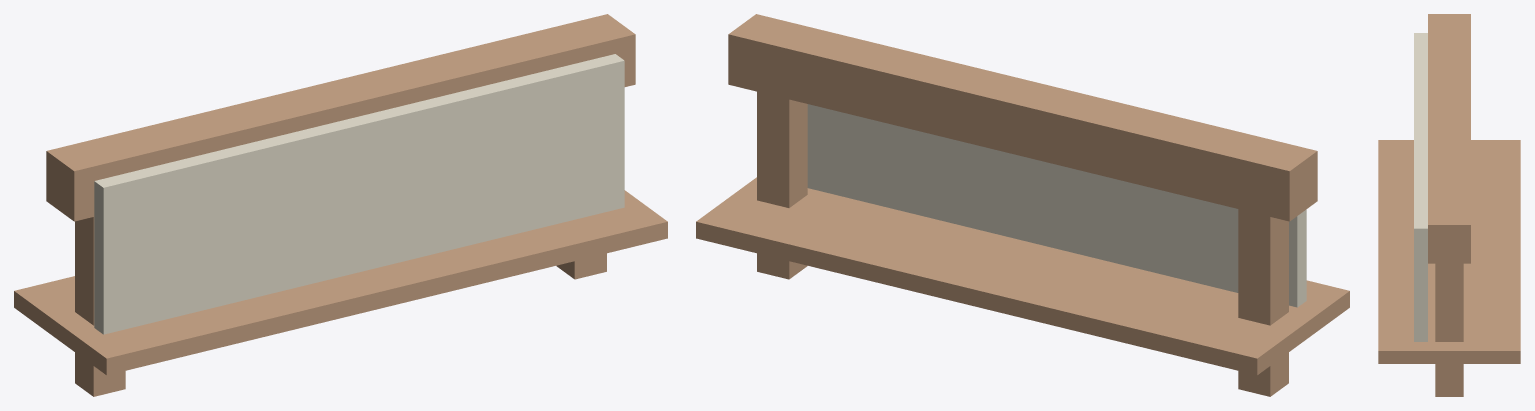
Rendered from Barrier_Low.glb.
3 renders of one model, left to right at view 1: azimuth 30°, elevation 25°; view 2: azimuth 150°, elevation 25°; view 3: azimuth 270°, elevation 25°, orthographic. The views are drawn at different scales.
Size of the model in its own units: 1.4 by 0.56 by 0.4.
